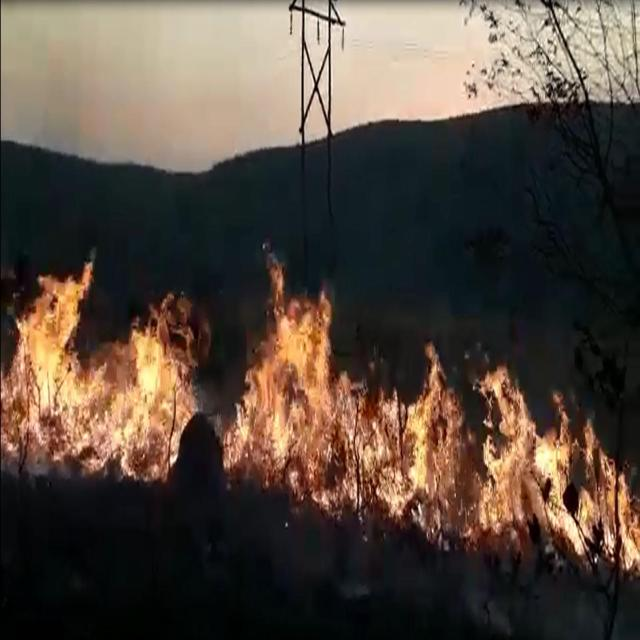Fire: (223, 247, 638, 568), (4, 244, 197, 480)
